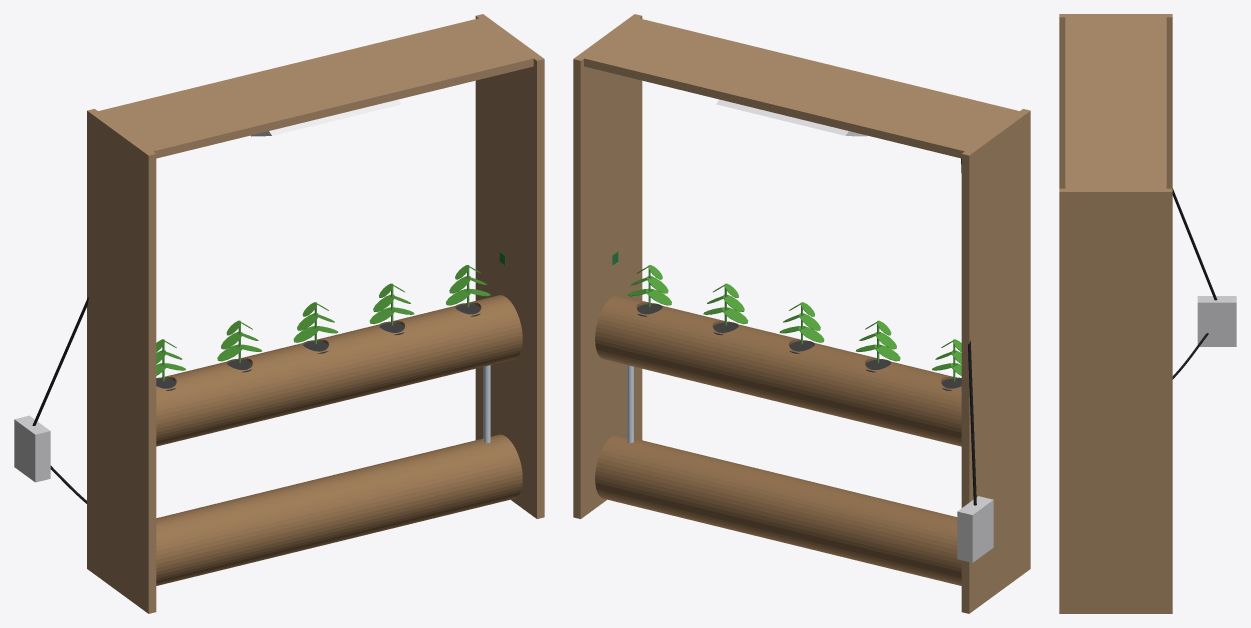
Rendered from bamboo_rig_model.glb.
3 views of the same model, side by side, from view 1: azimuth 30°, elevation 25°; view 2: azimuth 150°, elevation 25°; view 3: azimuth 270°, elevation 25° (orthographic). The views are drawn at different scales.
Visible parts, largest first — view 1: End_Support_Board_Left, End_Support_Board_Right, Bamboo_Storage_Tank, Bamboo_Growth_Stream, Overhead_Wooden_Sheet, MFC_Power_Switchboard, Hydroponic_Reflector_Hood; view 2: End_Support_Board_Left, End_Support_Board_Right, Bamboo_Storage_Tank, Bamboo_Growth_Stream, Overhead_Wooden_Sheet, MFC_Power_Switchboard, Hydroponic_Reflector_Hood, Light_Wire; view 3: End_Support_Board_Right, Overhead_Wooden_Sheet, End_Support_Board_Left, MFC_Power_Switchboard, Light_Wire.
Part boxes in pixels (bbox=[...]): End_Support_Board_Left: bbox=[87, 109, 156, 613]; End_Support_Board_Right: bbox=[475, 14, 544, 518]; Bamboo_Storage_Tank: bbox=[156, 434, 522, 585]; Bamboo_Growth_Stream: bbox=[156, 295, 522, 446]; Overhead_Wooden_Sheet: bbox=[98, 18, 533, 158]; MFC_Power_Switchboard: bbox=[14, 415, 50, 482]; Hydroponic_Reflector_Hood: bbox=[251, 99, 401, 136]; End_Support_Board_Left: bbox=[961, 109, 1030, 613]; End_Support_Board_Right: bbox=[573, 14, 642, 518]; Bamboo_Storage_Tank: bbox=[595, 434, 961, 585]; Bamboo_Growth_Stream: bbox=[595, 295, 961, 446]; Overhead_Wooden_Sheet: bbox=[584, 18, 1019, 158]; MFC_Power_Switchboard: bbox=[957, 496, 993, 562]; Hydroponic_Reflector_Hood: bbox=[716, 99, 866, 136]; Light_Wire: bbox=[961, 158, 976, 505]; End_Support_Board_Right: bbox=[1059, 188, 1172, 613]; Overhead_Wooden_Sheet: bbox=[1065, 17, 1166, 188]; End_Support_Board_Left: bbox=[1059, 14, 1172, 188]; MFC_Power_Switchboard: bbox=[1197, 296, 1236, 346]; Light_Wire: bbox=[1172, 188, 1217, 300].
Size of the model in its own units: 1.14 by 1.15 by 0.438.
